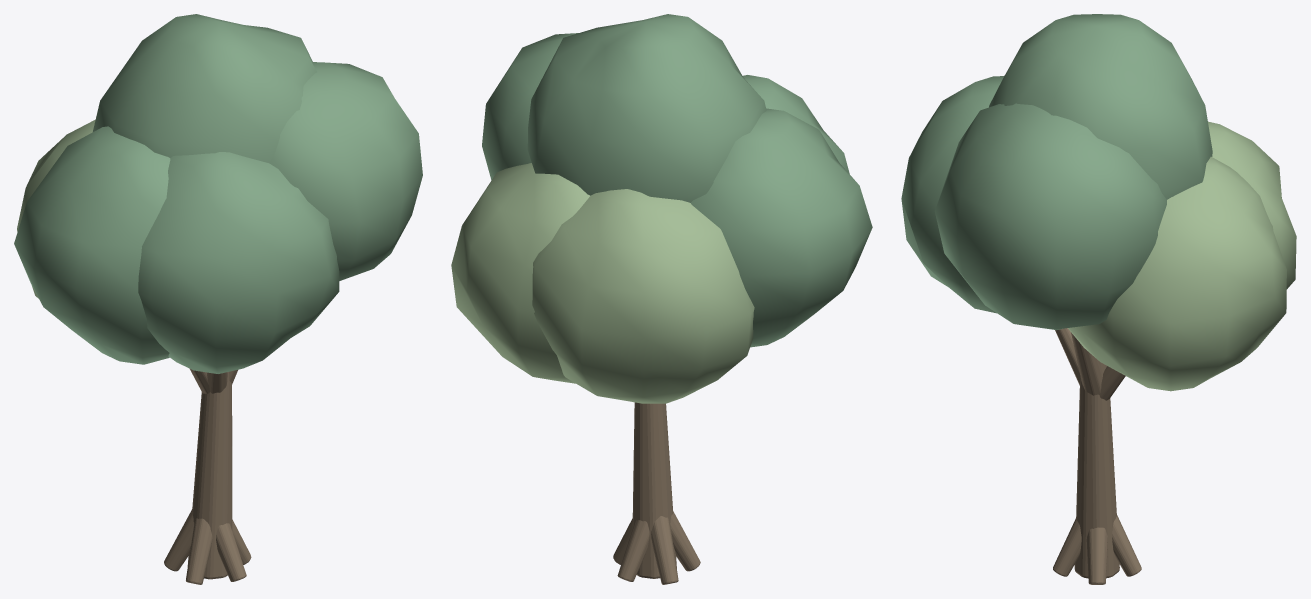
File: SM_Broadleaf_1_UV10400.fbx
3 views of the same model, side by side, from view 1: azimuth 30°, elevation 25°; view 2: azimuth 150°, elevation 25°; view 3: azimuth 270°, elevation 25° (orthographic).
Parts seen in each view (by area): view 1: SM_Broadleaf_1_UV10400; view 2: SM_Broadleaf_1_UV10400; view 3: SM_Broadleaf_1_UV10400.
Part boxes in pixels (x1,y1,x2,y2): SM_Broadleaf_1_UV10400: (14, 14, 422, 584); SM_Broadleaf_1_UV10400: (451, 14, 872, 584); SM_Broadleaf_1_UV10400: (901, 14, 1296, 584).
Size of the model in its own units: 761 by 702 by 1077.
